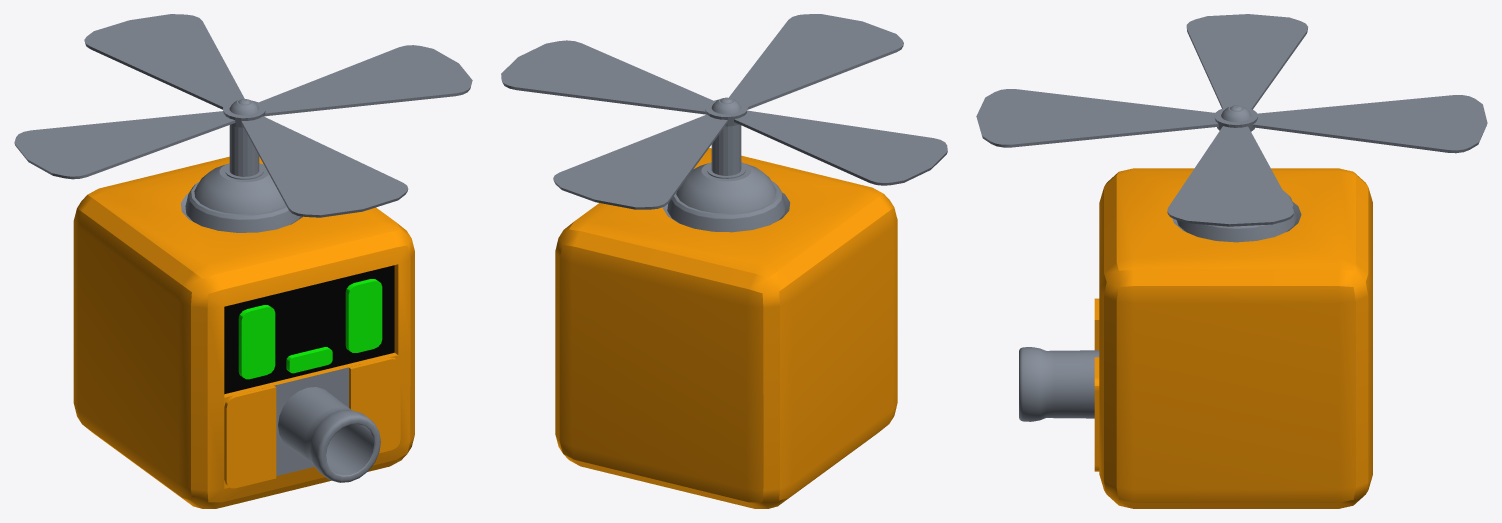
The model's file is Propeller1.fbx.
3 views of the same model, side by side, from view 1: azimuth 30°, elevation 25°; view 2: azimuth 150°, elevation 25°; view 3: azimuth 270°, elevation 25° (orthographic). The views are drawn at different scales.
Visible parts, largest first — view 1: pCylinder14; view 2: pCylinder14; view 3: pCylinder14.
Boxes of the visible parts, left/top/right/bottom form: pCylinder14: left=14, top=14, right=472, bottom=508; pCylinder14: left=501, top=14, right=947, bottom=508; pCylinder14: left=976, top=14, right=1487, bottom=508.
Size of the model in its own units: 52.95 by 41.91 by 54.43.
